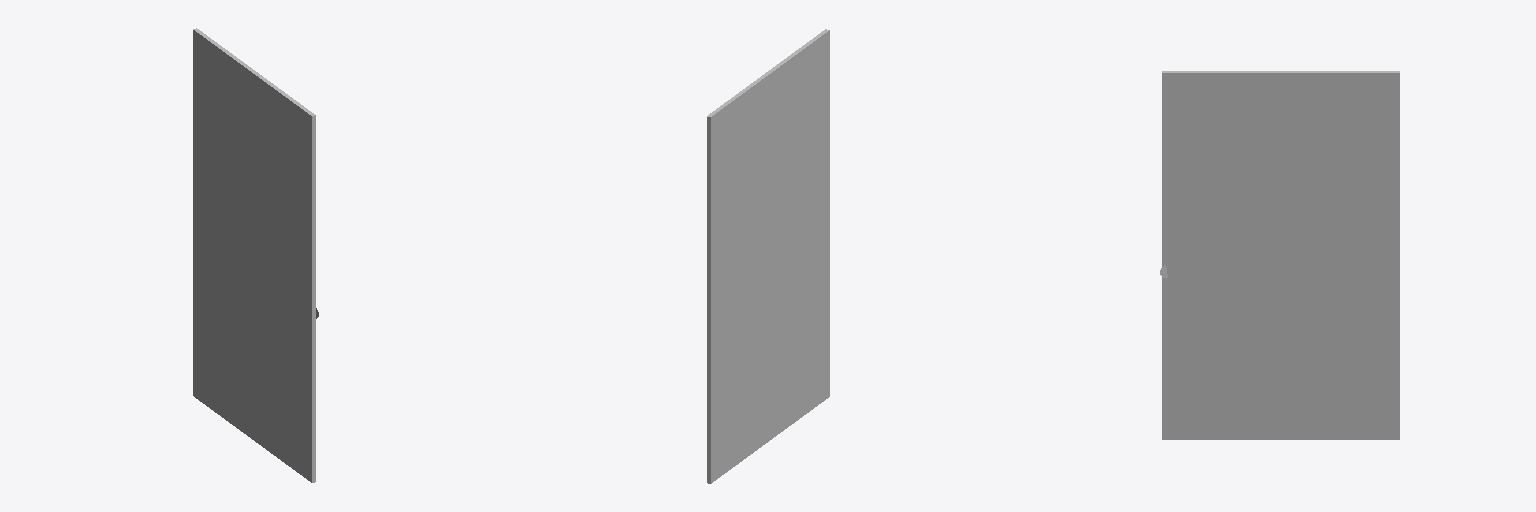
3 renders of one model, left to right at view 1: azimuth 30°, elevation 25°; view 2: azimuth 150°, elevation 25°; view 3: azimuth 270°, elevation 25°, orthographic.
Visible parts, largest first — view 1: back3_zoetrope.155; view 2: back3_zoetrope.155; view 3: back3_zoetrope.155.
Part boxes in pixels (x1,y1,x2,y2): back3_zoetrope.155: (193, 28, 318, 482); back3_zoetrope.155: (707, 29, 829, 483); back3_zoetrope.155: (1160, 71, 1399, 439).
Bounding box in the file's own units: 0.015 × 0.9246 × 0.5503.